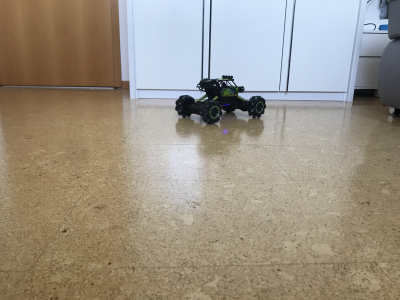remote control car: (174, 73, 267, 125)
